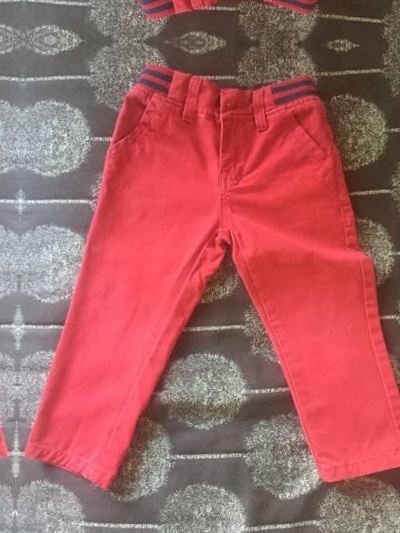Pants: (33, 65, 400, 507), (42, 0, 400, 21), (0, 57, 4, 499), (0, 0, 13, 14)
